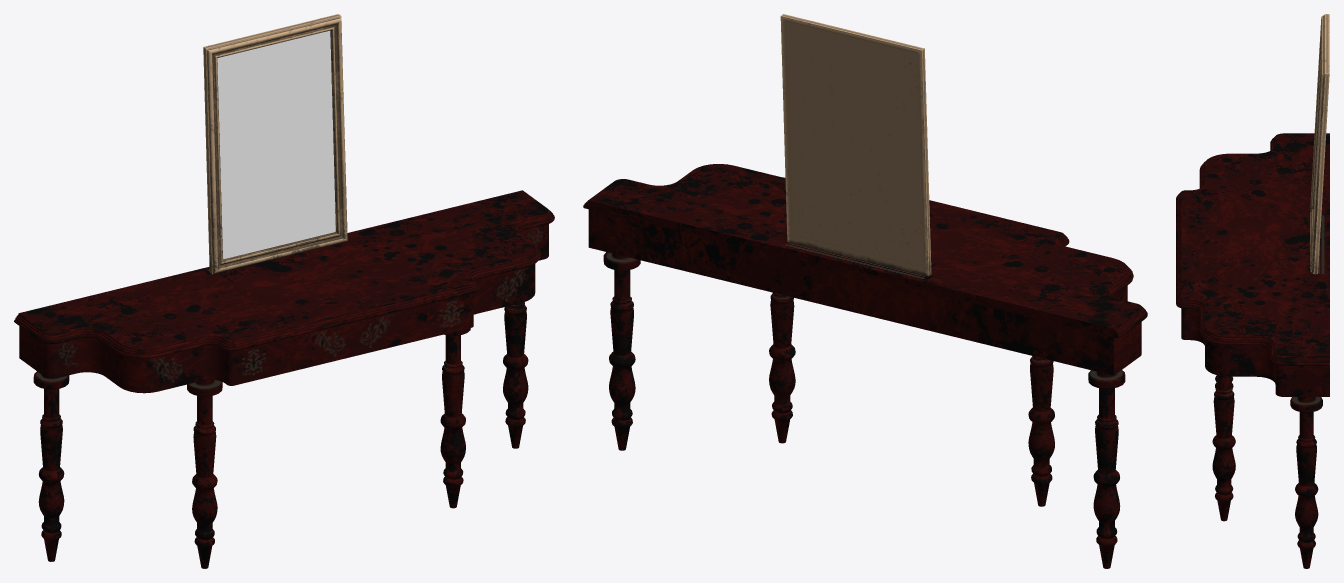
The model's file is table_mirror_wooden_metallic.glb.
3 views of the same model, side by side, from view 1: azimuth 30°, elevation 25°; view 2: azimuth 150°, elevation 25°; view 3: azimuth 270°, elevation 25° (orthographic). The views are drawn at different scales.
Visible parts, largest first — view 1: miror; view 2: miror; view 3: miror.
Boxes of the visible parts, x1,y1,x2,y2 form: miror: (14, 14, 554, 568); miror: (583, 14, 1147, 568); miror: (1176, 14, 1329, 568).
Bounding box in the file's own units: 4.06 × 3.51 × 1.16.
Materials: 1 (1 with a texture image).
